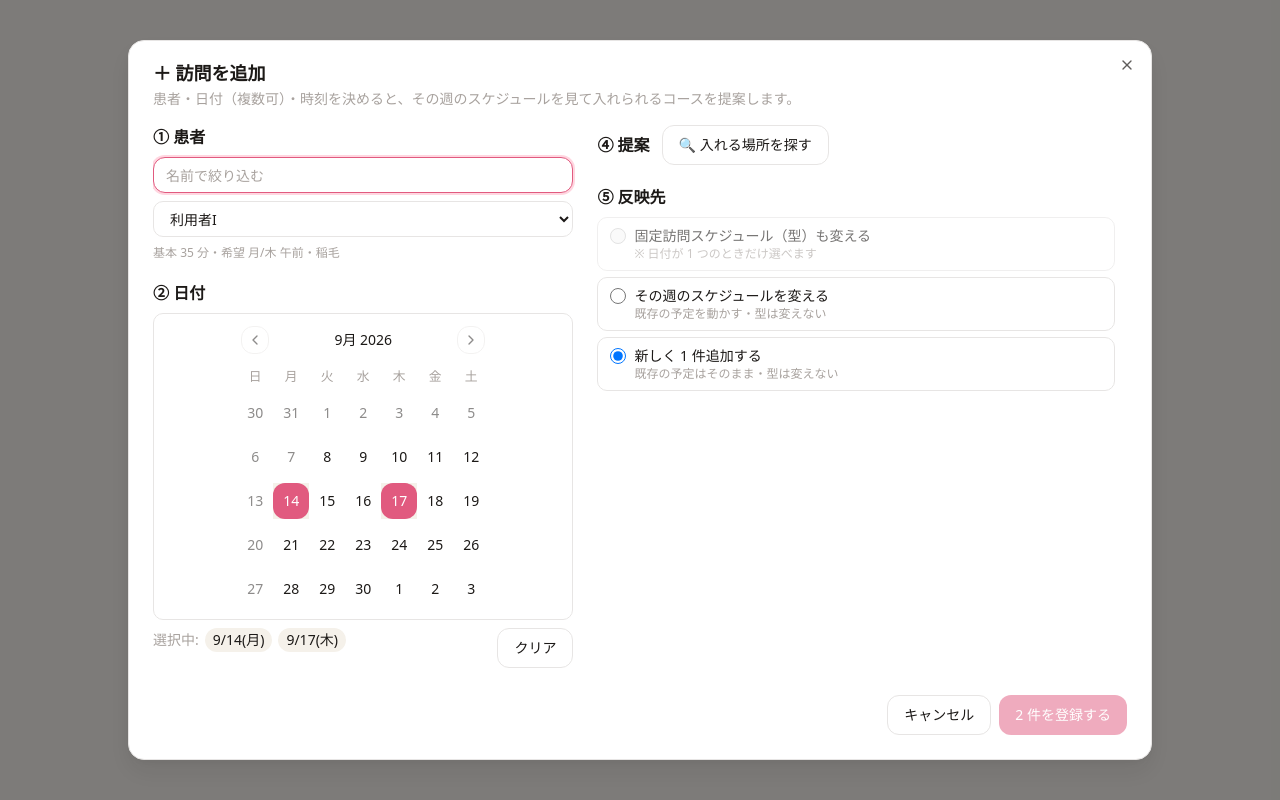
Scenario: AddVisitAnywhereDialog › M1 週に候補がある中での 0 件日は、その曜日だけで理由を聞き直す
This screenshot has width=1280, height=800.
Click the button with test id "ava-propose": [745, 145] box x1=662 y1=125 x2=829 y2=165
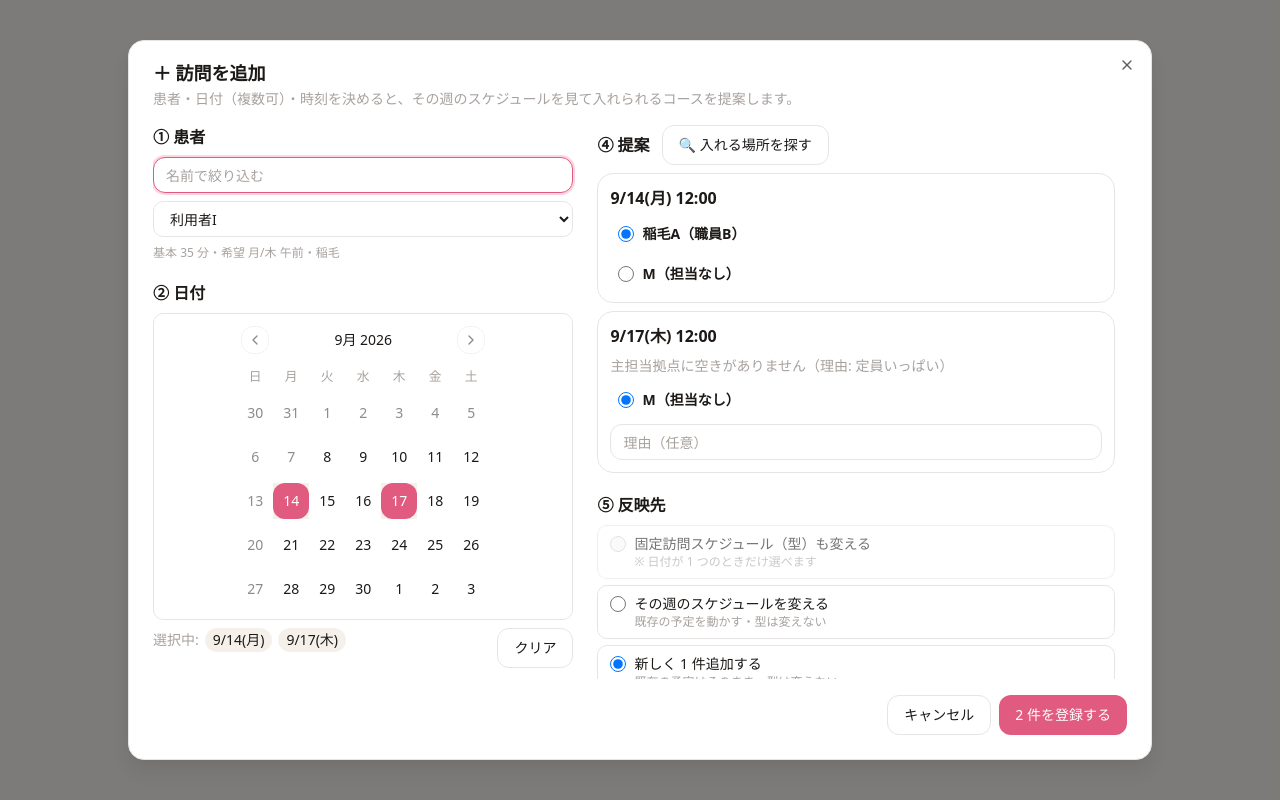
Check: the element with test id "ava-row-2026-09-17" shows "主担当拠点に空きがありません（理由: 定員いっぱい）", box x1=597 y1=311 x2=1115 y2=473
